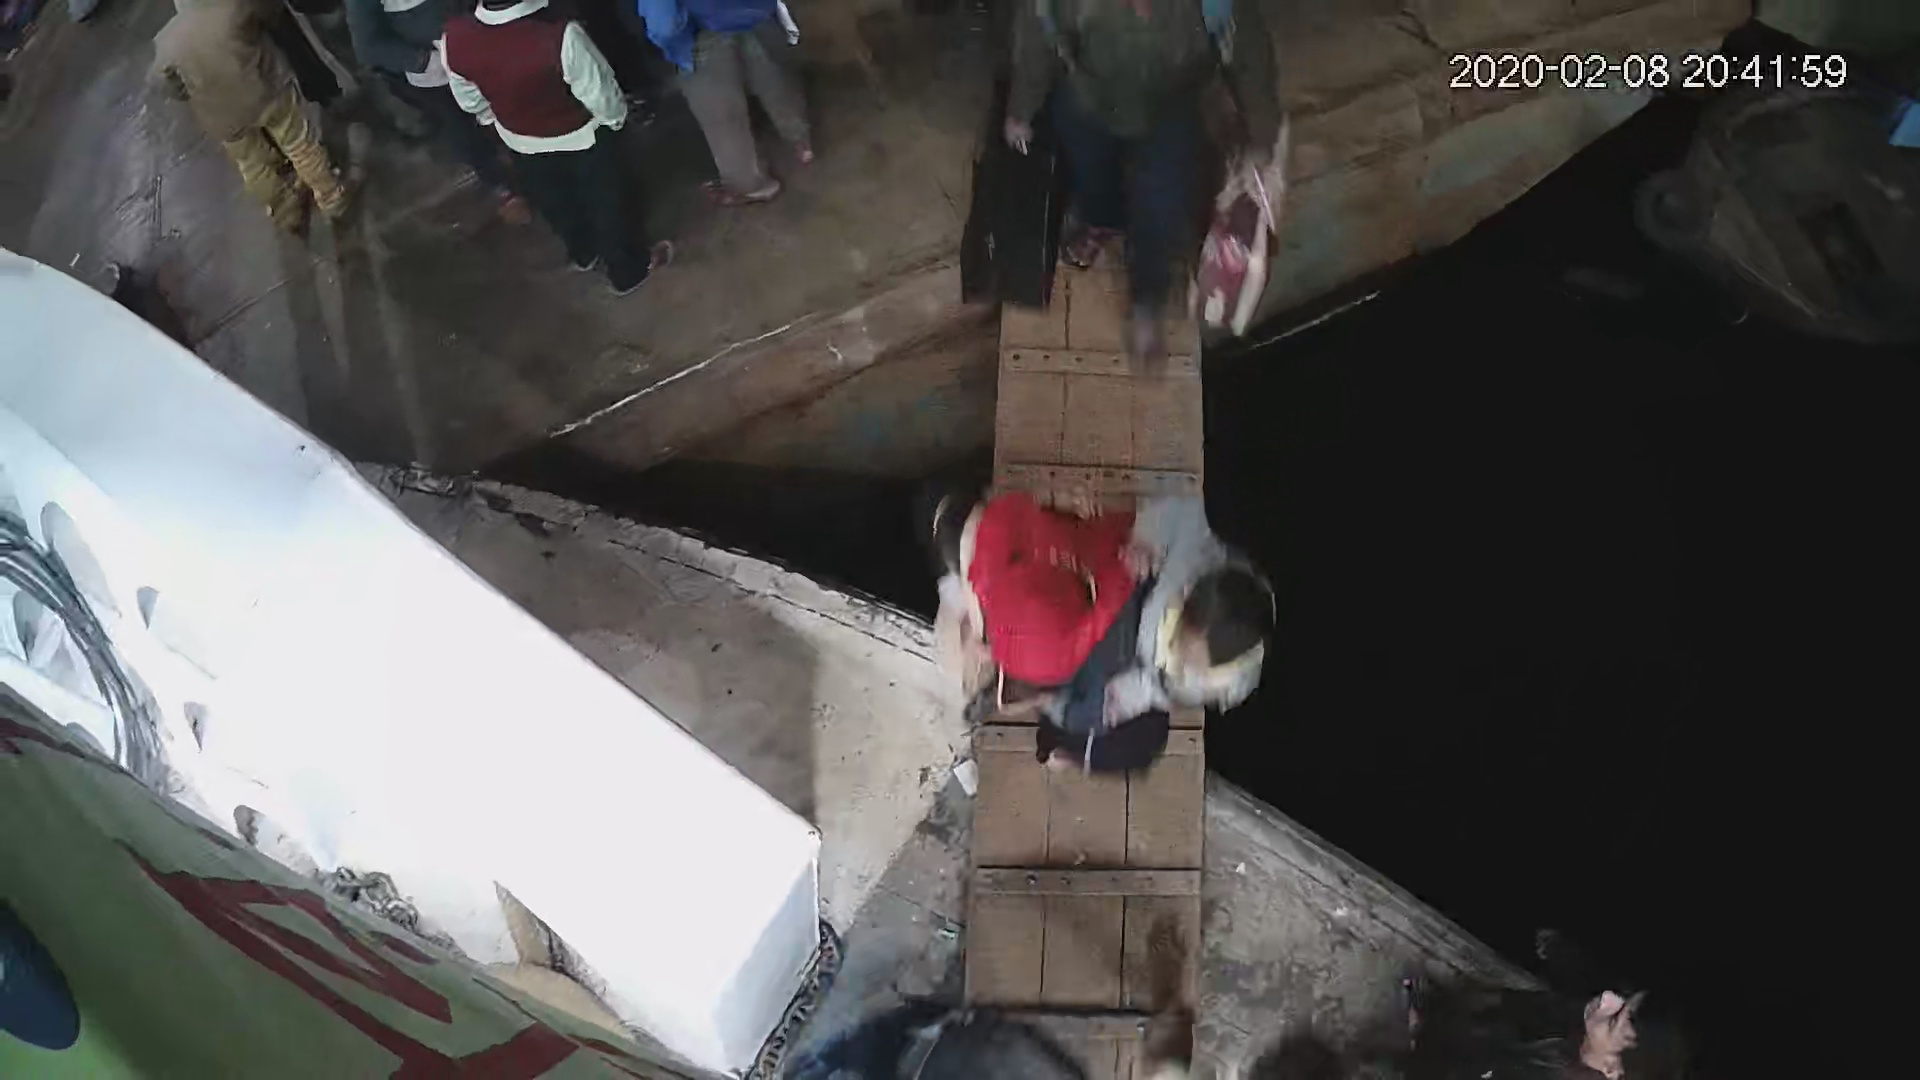person: (1004, 1, 1283, 424), (902, 466, 1177, 793), (433, 1, 679, 303), (148, 1, 354, 234)
